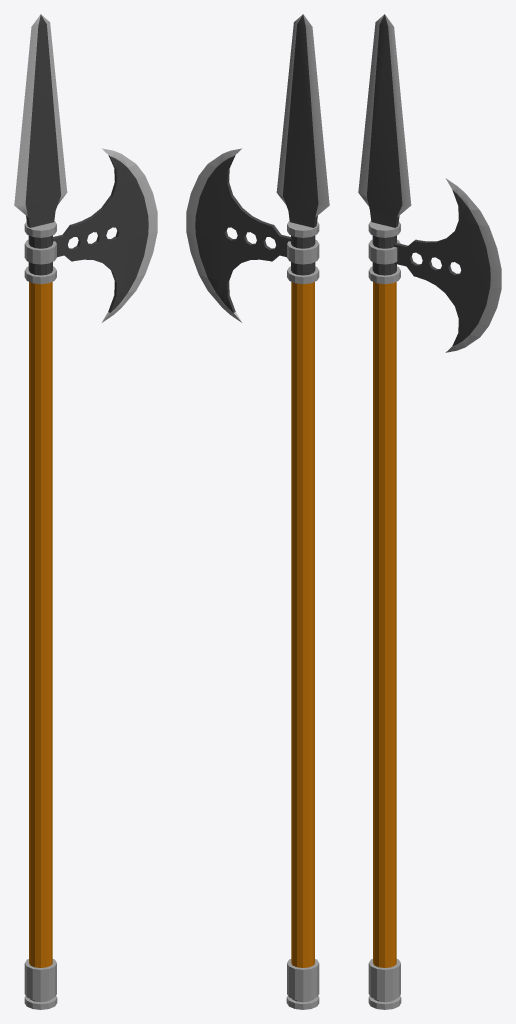
File: Spear_07.fbx
3 views of the same model, side by side, from view 1: azimuth 30°, elevation 25°; view 2: azimuth 150°, elevation 25°; view 3: azimuth 330°, elevation 25° (orthographic).
Visible parts, largest first — view 1: Spear_07; view 2: Spear_07; view 3: Spear_07.
Part boxes in pixels (x1,y1,x2,y2): Spear_07: [14, 14, 157, 1009]; Spear_07: [186, 14, 329, 1009]; Spear_07: [358, 14, 501, 1009].
Size of the model in its own units: 2.78 by 18.32 by 0.544.
